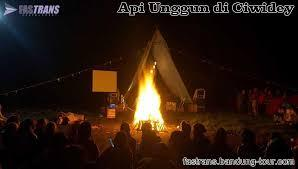fire: (133, 69, 165, 130)
